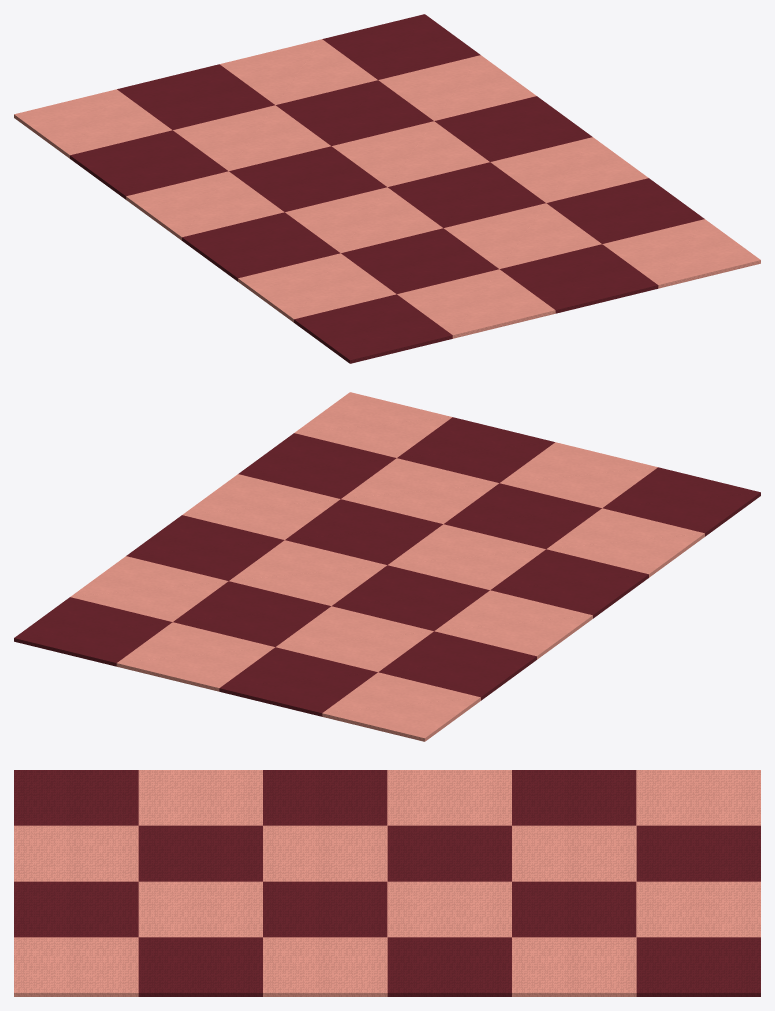
File: alfombra-cuadros-rosa-rojo-120x170.glb
The picture shows the model from 3 angles, top to bottom: view 1: azimuth 30°, elevation 25°; view 2: azimuth 150°, elevation 25°; view 3: azimuth 270°, elevation 25°; orthographic projection. The views are drawn at different scales.
Visible parts, largest first — view 1: alfombra-cuadros; view 2: alfombra-cuadros; view 3: alfombra-cuadros.
Part boxes in pixels (x1,y1,x2,y2): alfombra-cuadros: (14,14,760,363); alfombra-cuadros: (14,392,760,741); alfombra-cuadros: (14,770,760,996).
Bounding box in the file's own units: 1.2 × 0.01 × 1.7.
Materials: 2 (2 with a texture image).
